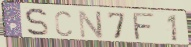1: (164, 13, 179, 43)
7: (106, 11, 128, 41)
C: (53, 10, 74, 38)
F: (132, 12, 158, 42)
N: (77, 9, 105, 40)
S: (24, 7, 50, 38)
